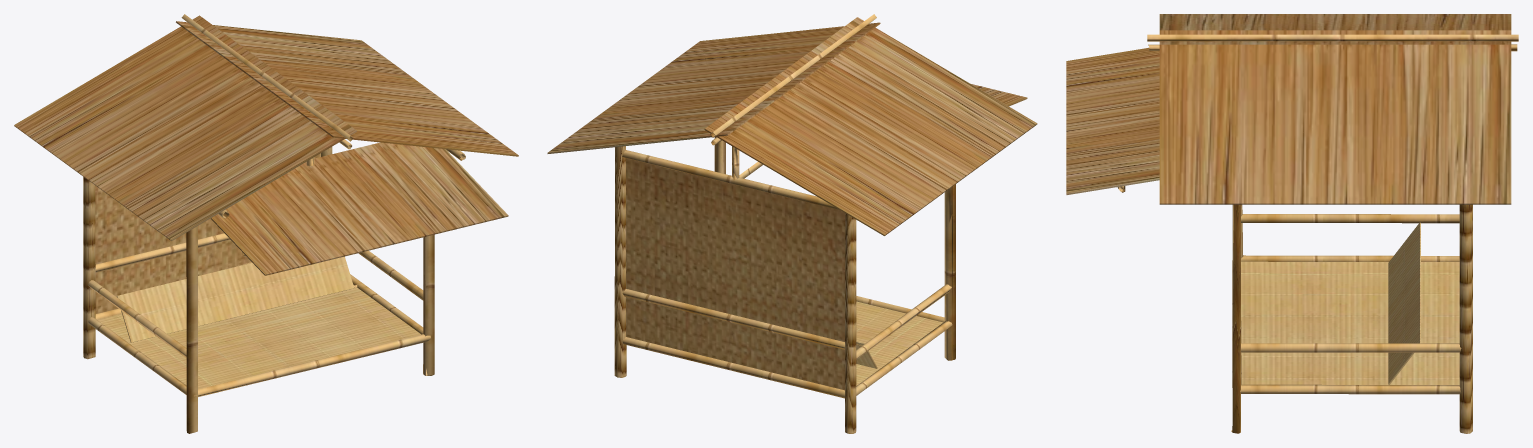
File: choi-tre.glb
3 views of the same model, side by side, from view 1: azimuth 30°, elevation 25°; view 2: azimuth 150°, elevation 25°; view 3: azimuth 270°, elevation 25° (orthographic). The views are drawn at different scales.
Visible parts, largest first — view 1: Object_8, Object_18, Object_4, Object_16; view 2: Object_8, Object_16, Object_4, Object_18; view 3: Object_8, Object_18, Object_4.
Part boxes in pixels (bbox=[...]): Object_8: bbox=[14, 15, 518, 275]; Object_18: bbox=[97, 256, 420, 389]; Object_4: bbox=[83, 14, 465, 433]; Object_16: bbox=[95, 153, 320, 313]; Object_8: bbox=[547, 17, 1037, 235]; Object_16: bbox=[626, 158, 844, 390]; Object_4: bbox=[614, 14, 955, 433]; Object_18: bbox=[856, 301, 943, 385]; Object_8: bbox=[1066, 14, 1511, 204]; Object_18: bbox=[1241, 222, 1459, 384]; Object_4: bbox=[1117, 34, 1518, 433].
Size of the model in its own units: 0.9914 by 0.8089 by 0.9996.
Materials: 5 (5 with a texture image).
